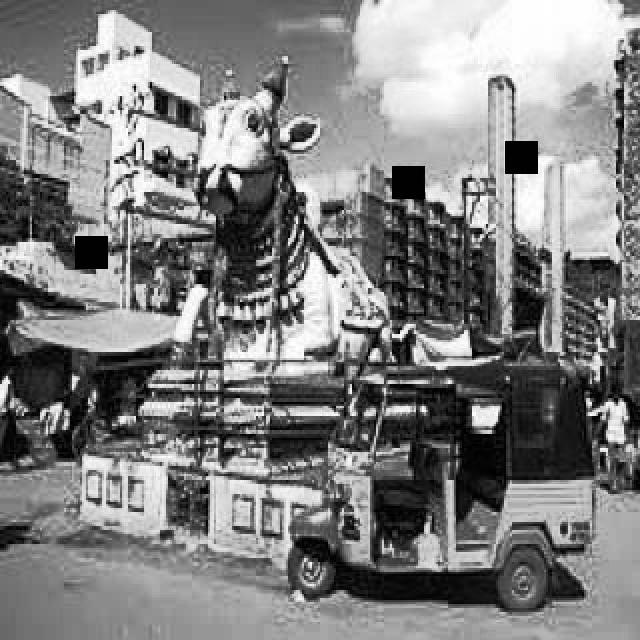Auto-Rickshaw: (300, 354, 628, 636)
